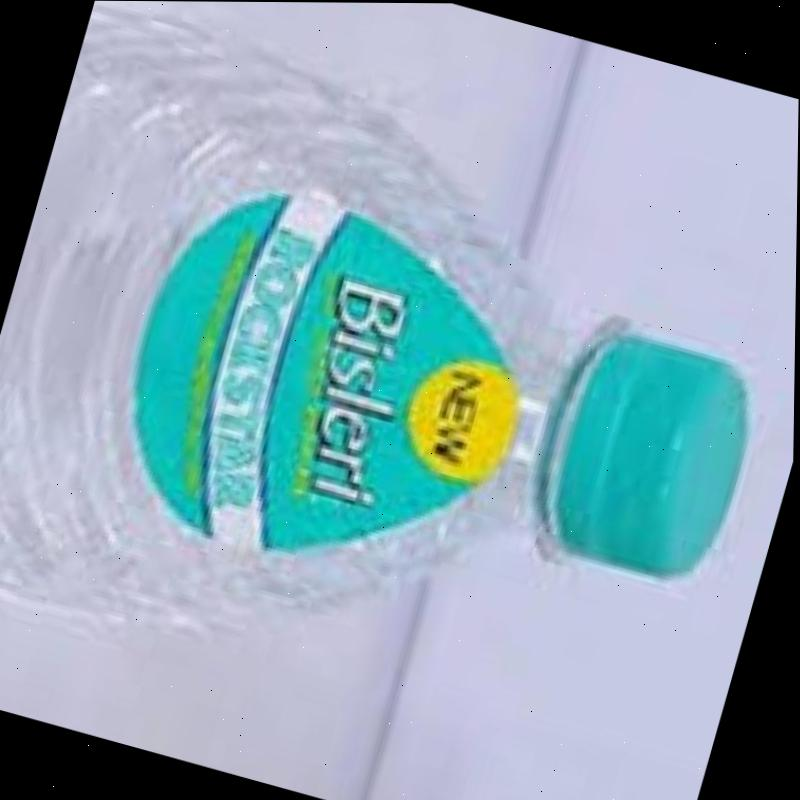botella: (0, 1, 800, 778)
